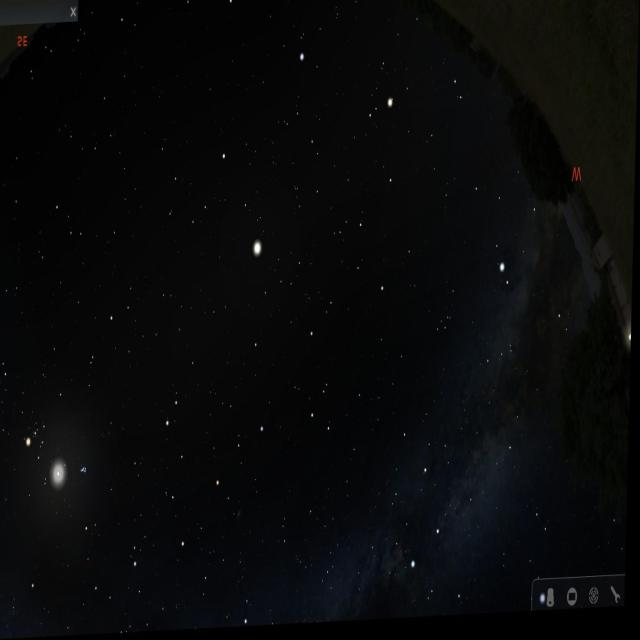cygnus: (408, 442, 522, 618)
moon: (49, 450, 75, 493)
pleiades: (78, 456, 94, 484)
taurus: (20, 382, 100, 509)
